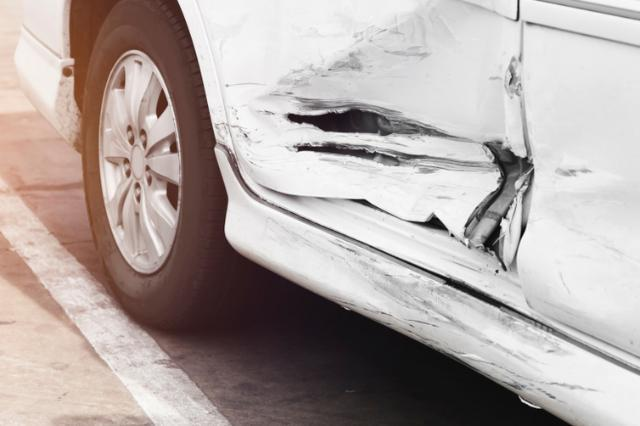Door: (232, 20, 518, 366)
